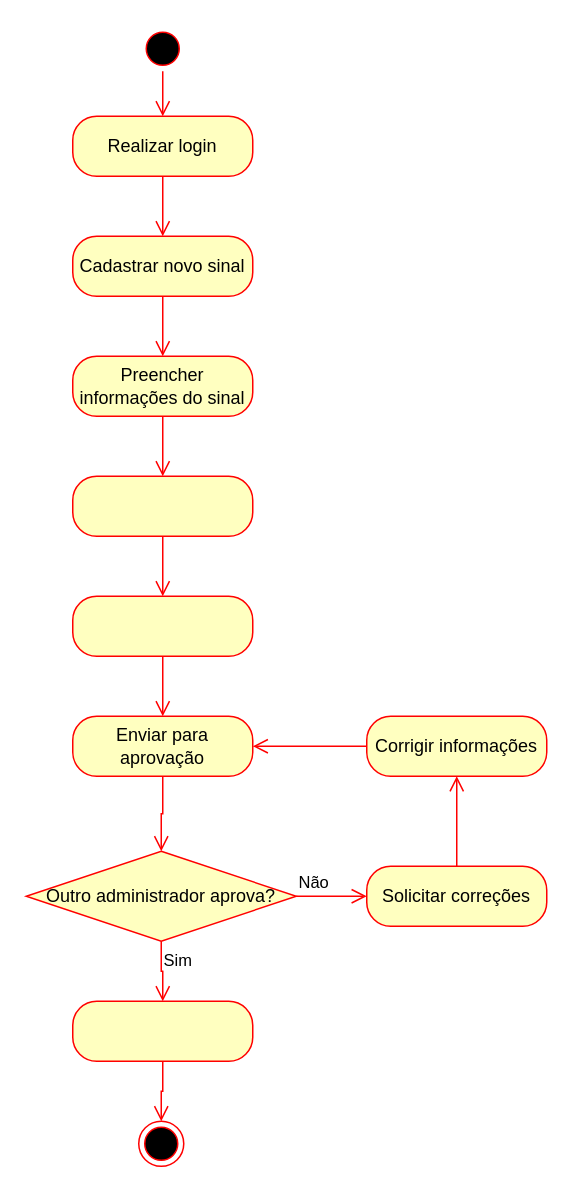
This 573x1193 diagram has some shape labels left out. Each missing label, with the centre of its shape:
"Anexar vídeo do sinal" belongs at (162,505).
"Publicar sinal" belongs at (162,1030).
"Validar informações" belongs at (162,625).
